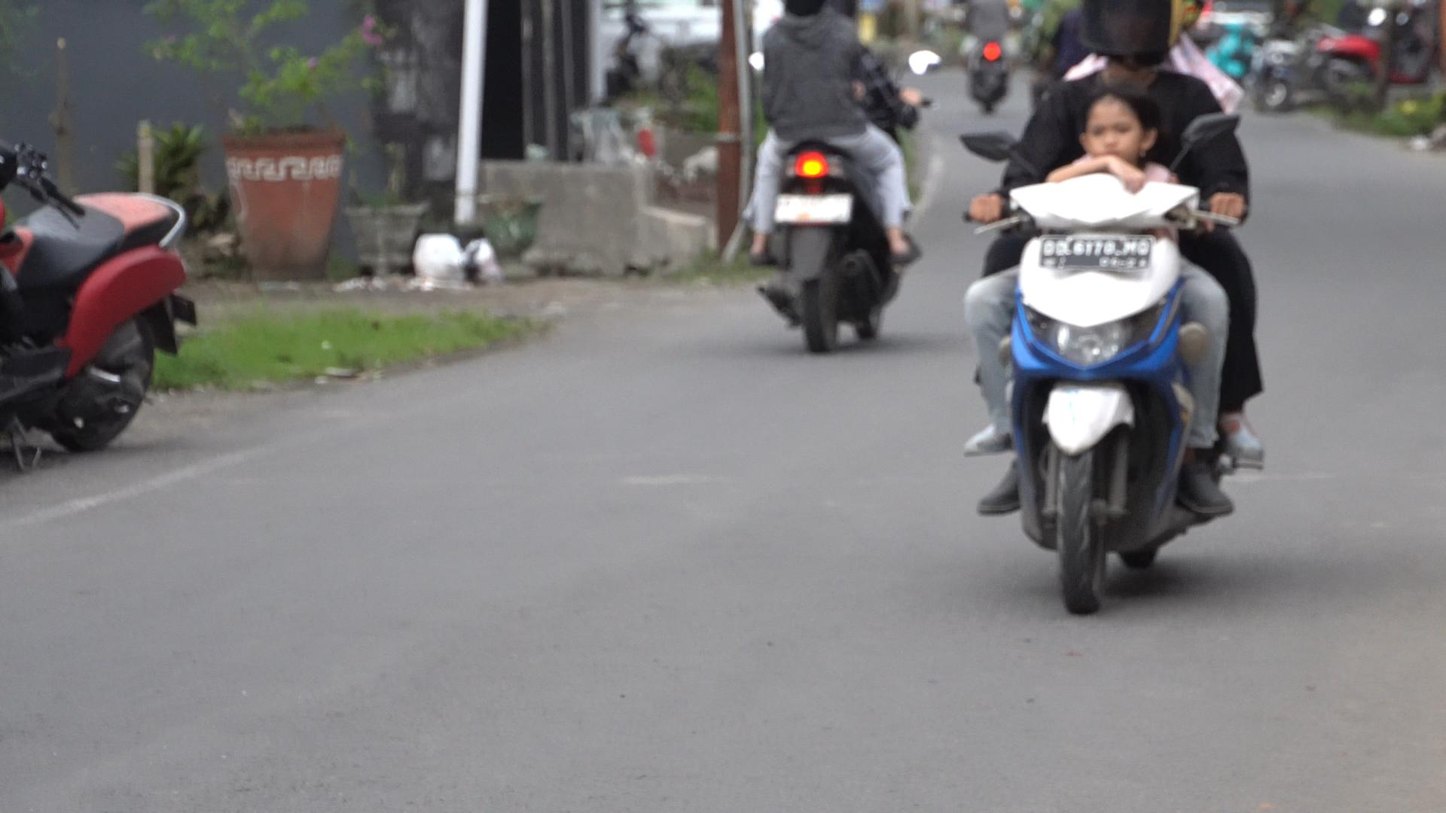number-plate: (1036, 237, 1153, 275)
